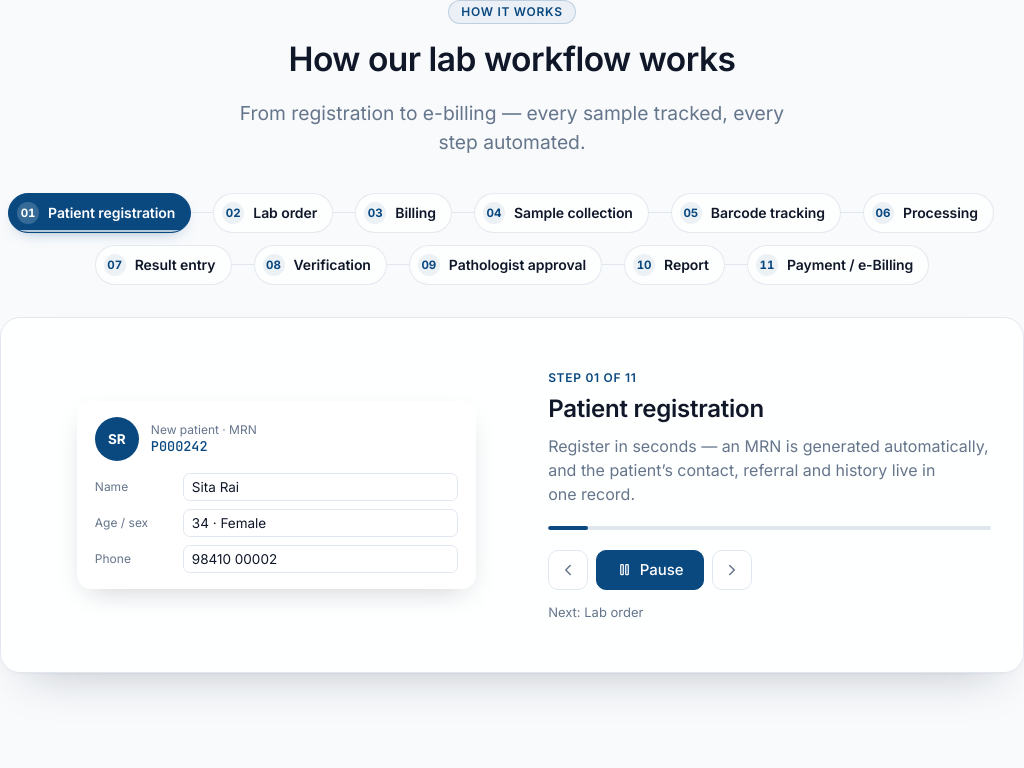
Test case: AnimatedWorkflow › billing matches the original: six tests, Rs., VAT, total Rs. 4,520
Click the button "03 Billing".
click(404, 213)  # box [355,193,452,233]
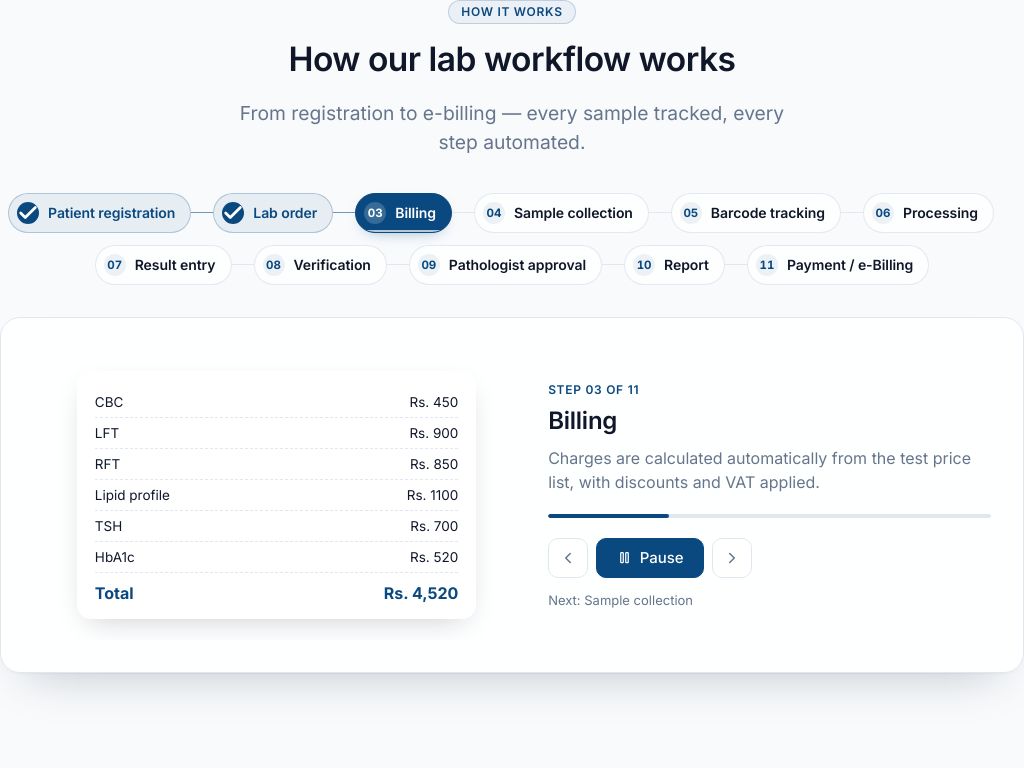
Expected: the text "Charges are calculated automatically from the test price list, with discounts and VAT applied." is shown, [548,448,971,492]
Expected: the element with class "lw-scene" shows "CBC", [95,394,123,410]
Expected: the element with class "lw-scene" shows "LFT", [95,425,119,441]
